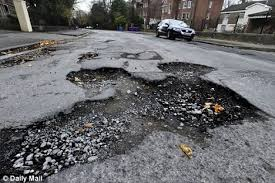pothole: (4, 100, 136, 178), (59, 65, 155, 97), (156, 56, 223, 81)
